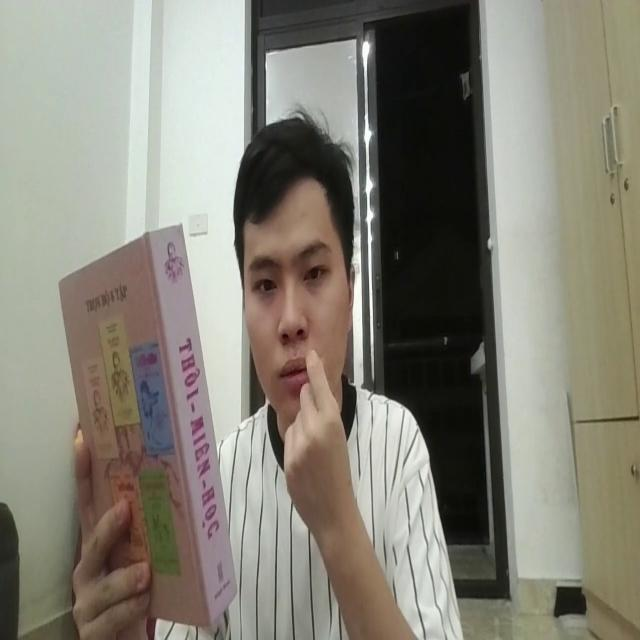book: (53, 222, 240, 616)
student: (63, 108, 461, 640)
